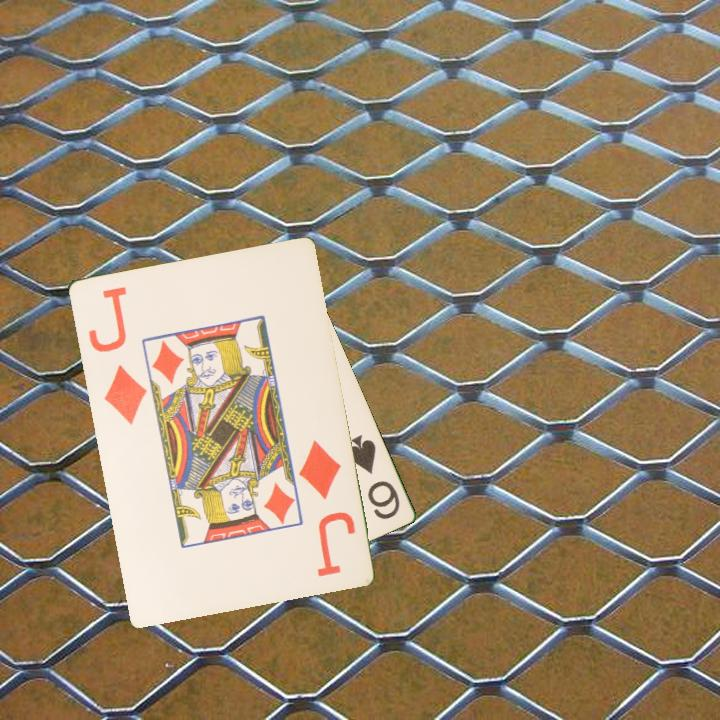6s: (344, 431, 402, 522)
Jd: (84, 282, 149, 427), (294, 435, 358, 579)
